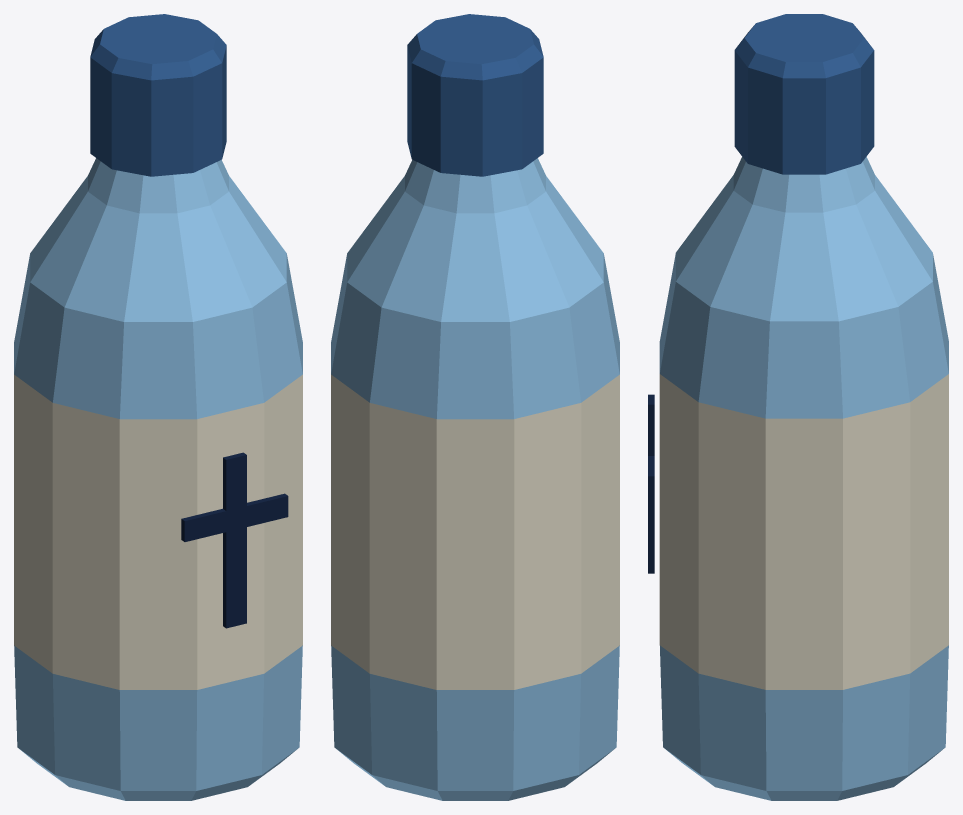
Rendered from holy_water.glb.
3 views of the same model, side by side, from view 1: azimuth 30°, elevation 25°; view 2: azimuth 150°, elevation 25°; view 3: azimuth 270°, elevation 25° (orthographic).
Visible parts, largest first — view 1: holy_water; view 2: holy_water; view 3: holy_water.
Part boxes in pixels (<box>): holy_water: <box>14,14,302,800</box>; holy_water: <box>331,14,619,800</box>; holy_water: <box>648,14,948,800</box>.
Size of the model in its own units: 0.0435 by 0.118 by 0.0452.
